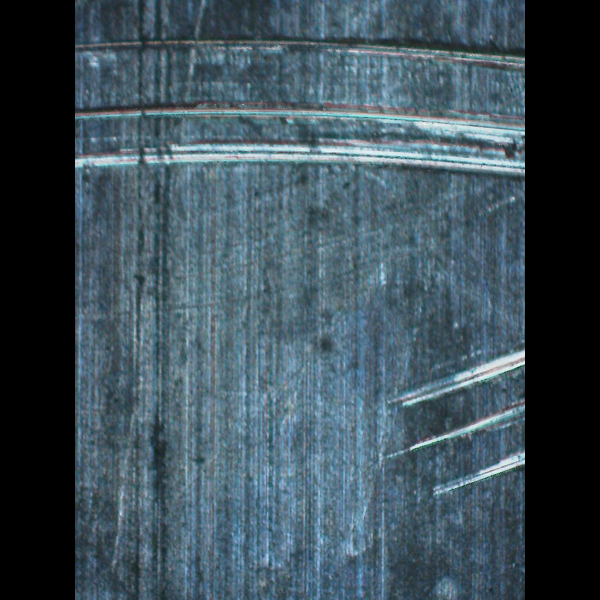d: (75, 29, 522, 192), (372, 329, 524, 528)
